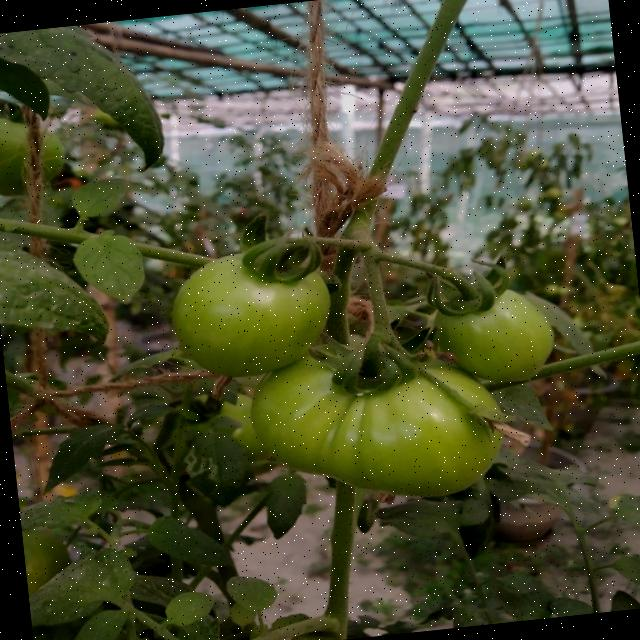Unripe: (247, 336, 502, 514), (160, 242, 334, 382), (432, 276, 550, 392)
